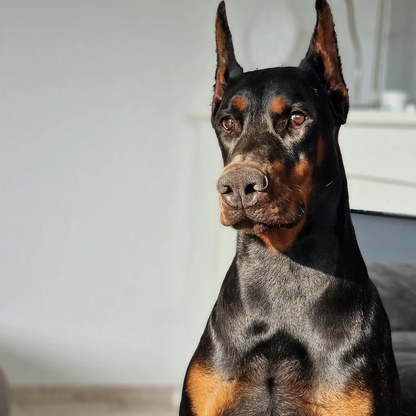doberman: (190, 7, 407, 416)
